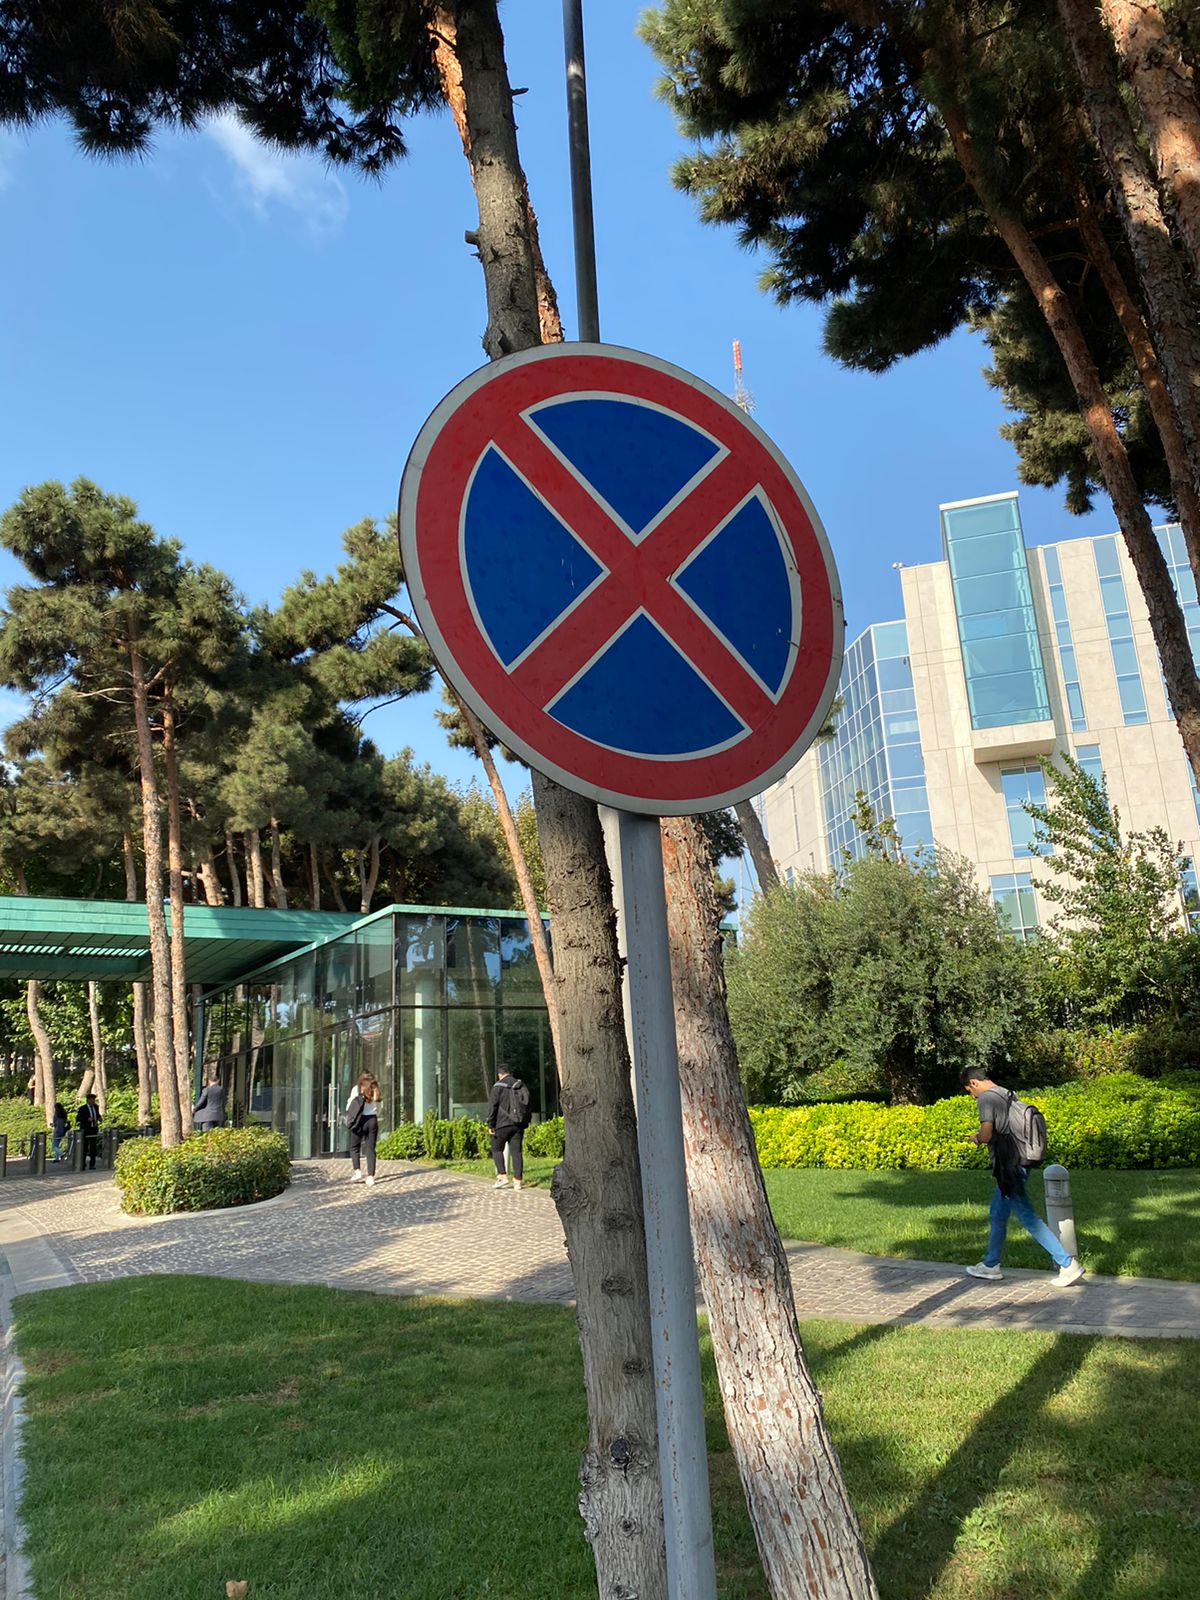No Parking: (395, 338, 845, 818)
